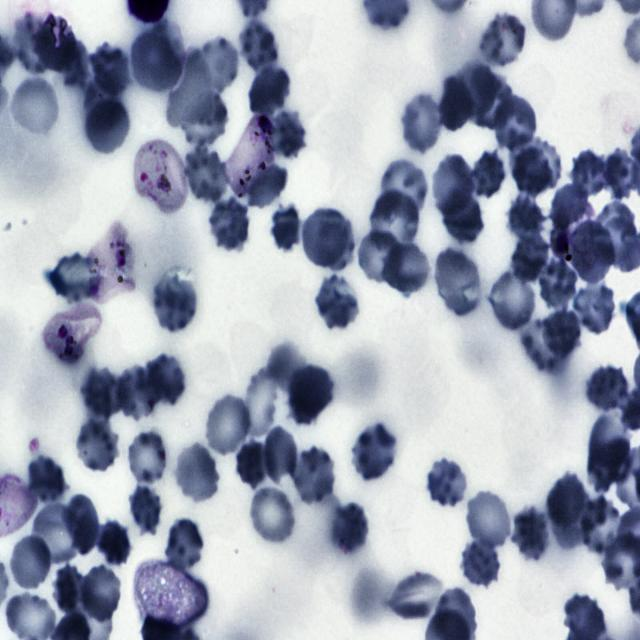red blood cell: (130, 26, 182, 96), (432, 247, 483, 318), (166, 46, 210, 126), (368, 189, 421, 255), (376, 156, 429, 220), (32, 500, 82, 566), (302, 208, 352, 270), (430, 153, 476, 218), (488, 269, 536, 331), (286, 363, 334, 425), (509, 133, 561, 190), (568, 221, 615, 284), (290, 444, 336, 508), (151, 275, 199, 335), (518, 320, 570, 375), (206, 394, 252, 456), (9, 76, 58, 134), (590, 202, 635, 265), (491, 94, 538, 154), (182, 90, 228, 148), (175, 443, 220, 502), (187, 144, 230, 205), (314, 273, 359, 331), (469, 73, 514, 131), (50, 251, 100, 303), (386, 574, 442, 620), (242, 366, 278, 437), (382, 242, 428, 297), (358, 228, 404, 283), (578, 496, 620, 556), (352, 423, 396, 480), (246, 64, 292, 118), (467, 492, 509, 551), (34, 13, 76, 72), (440, 191, 485, 246), (251, 487, 295, 543), (86, 98, 130, 154), (540, 307, 584, 363), (78, 414, 120, 472), (454, 61, 496, 119), (114, 365, 159, 419), (425, 455, 470, 508), (480, 14, 525, 67), (208, 198, 252, 252), (402, 93, 442, 152), (63, 492, 101, 554), (13, 13, 52, 73), (80, 566, 121, 623), (537, 256, 579, 311), (552, 492, 592, 549), (10, 535, 52, 589), (146, 351, 187, 406), (198, 37, 239, 92), (85, 71, 123, 130), (240, 18, 280, 74), (572, 284, 615, 336), (90, 43, 132, 96), (80, 366, 120, 421), (26, 454, 67, 507), (509, 231, 550, 284), (585, 363, 628, 413), (459, 540, 502, 589), (165, 519, 203, 573), (512, 146, 552, 197), (512, 506, 549, 561), (546, 473, 583, 528), (505, 194, 546, 243), (129, 430, 166, 484), (264, 425, 298, 483), (440, 76, 475, 131), (331, 503, 368, 554), (550, 182, 589, 230), (570, 150, 609, 197), (248, 162, 287, 209), (129, 483, 162, 536), (470, 150, 506, 198), (271, 110, 306, 158), (52, 566, 87, 612), (236, 440, 269, 488), (271, 200, 300, 252), (98, 517, 128, 566)
trophozoite: (132, 139, 188, 214), (224, 114, 275, 195), (89, 222, 132, 300), (41, 306, 100, 362), (551, 204, 593, 272)
